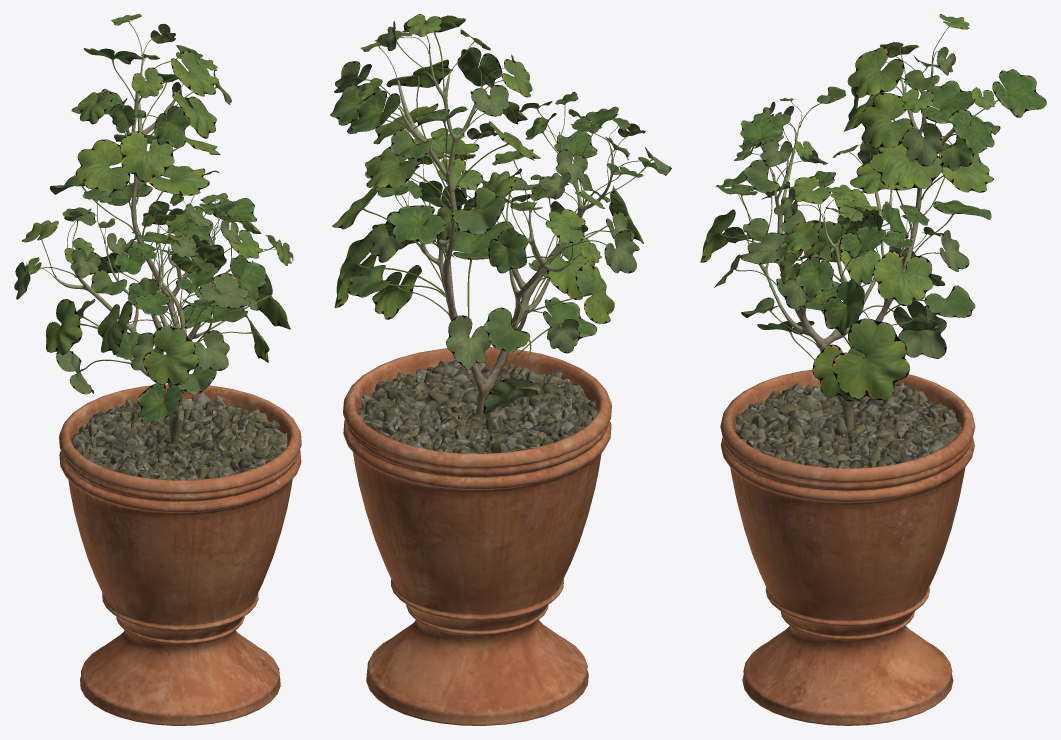
Rendered from potted_plant_01.glb.
3 renders of one model, left to right at view 1: azimuth 30°, elevation 25°; view 2: azimuth 150°, elevation 25°; view 3: azimuth 270°, elevation 25°, orthographic. The views are drawn at different scales.
Parts seen in each view (by area): view 1: potted_plant_01_stem, potted_plant_01_leaves; view 2: potted_plant_01_stem, potted_plant_01_leaves; view 3: potted_plant_01_stem, potted_plant_01_leaves.
Part boxes in pixels (x1,y1,x2,y2): potted_plant_01_stem: [54, 54, 301, 725]; potted_plant_01_leaves: [14, 14, 293, 423]; potted_plant_01_stem: [343, 49, 612, 725]; potted_plant_01_leaves: [330, 14, 671, 414]; potted_plant_01_stem: [720, 55, 975, 725]; potted_plant_01_leaves: [700, 14, 1046, 401].
Size of the model in its own units: 0.5874 by 1.34 by 0.6336.
2 materials, 2 textured.
